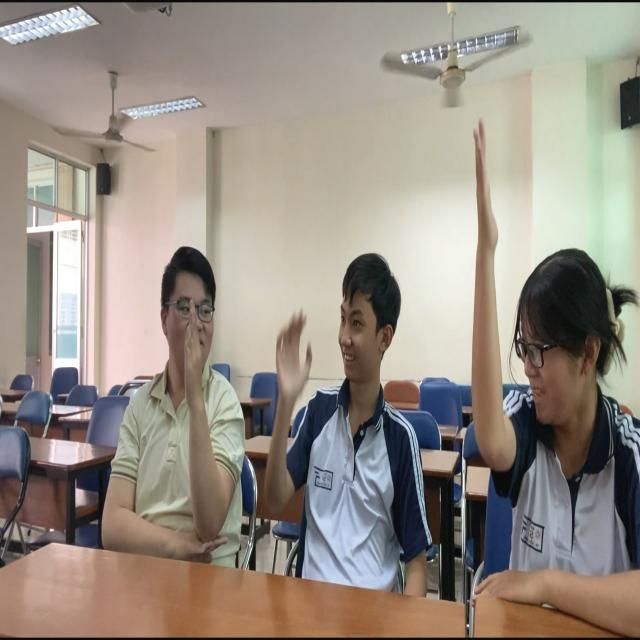raise_hand: (468, 110, 640, 640), (96, 236, 249, 592)
